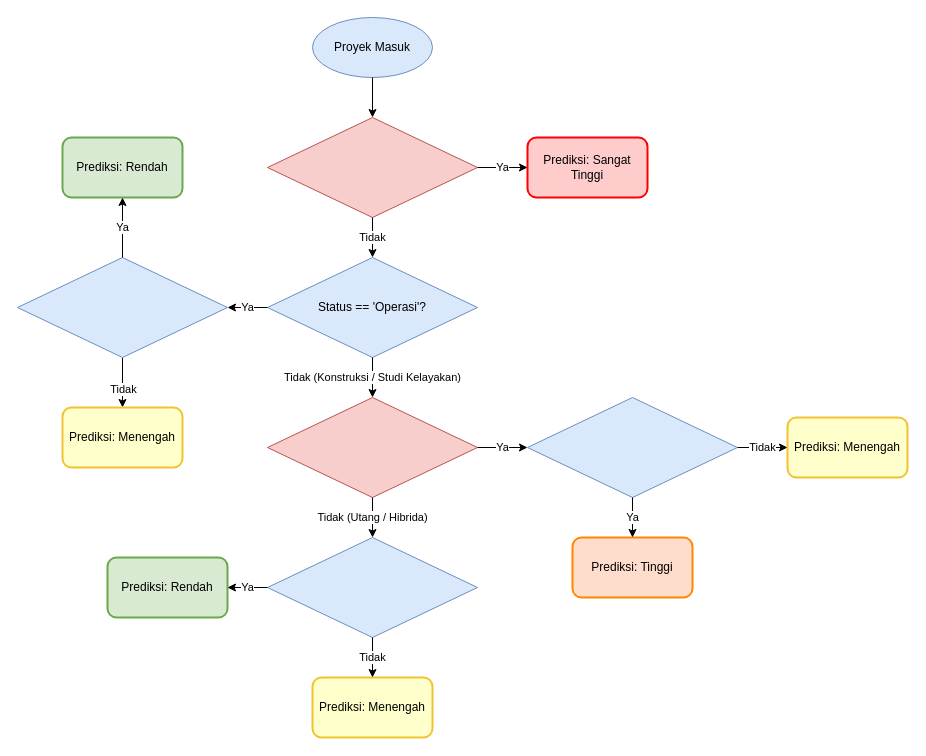
Some shapes in this 926 by 756 pixel diagram are drawn without their labels. The centre of each missing label's shape, as x and y in pixels:
"Dok. Audit & Peringkat Kredit Lengkap?" goes at pixel 122 307.
"Dok. Peringkat Kredit == Ada?" goes at pixel 372 587.
"Persentase Tokenisasi > 50%?" goes at pixel 632 447.
"Status == 'Pra-Studi Kelayakan'?" goes at pixel 372 167.
"Token Risk Level > 2? (Ekuitas / Hak Pendapatan)" goes at pixel 372 447.
